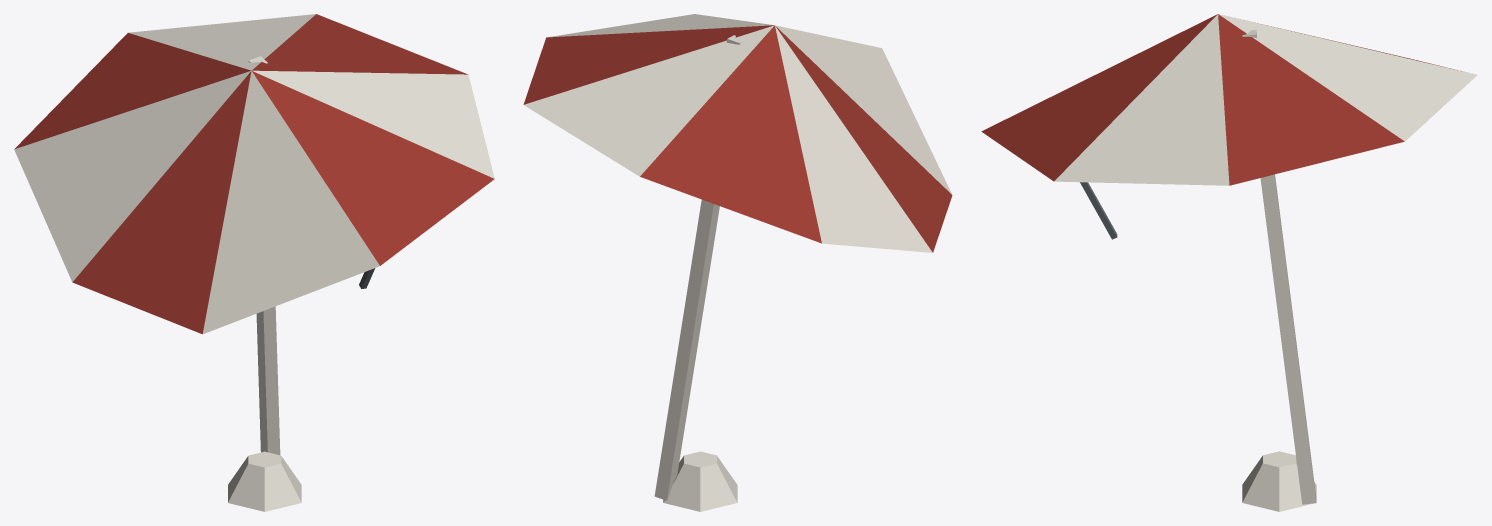
Rendered from beach_umbrella.glb.
The picture shows the model from 3 angles, left to right: view 1: azimuth 30°, elevation 25°; view 2: azimuth 150°, elevation 25°; view 3: azimuth 270°, elevation 25°; orthographic projection.
Parts seen in each view (by area): view 1: beach_umbrella; view 2: beach_umbrella; view 3: beach_umbrella.
Part boxes in pixels (left/top/right/bottom): beach_umbrella: left=14, top=14, right=494, bottom=511; beach_umbrella: left=523, top=14, right=952, bottom=511; beach_umbrella: left=981, top=14, right=1477, bottom=511.
Size of what is drawn, in the model's own units: 1.91 by 2.12 by 2.08.
Materials: 1 (1 with a texture image).
